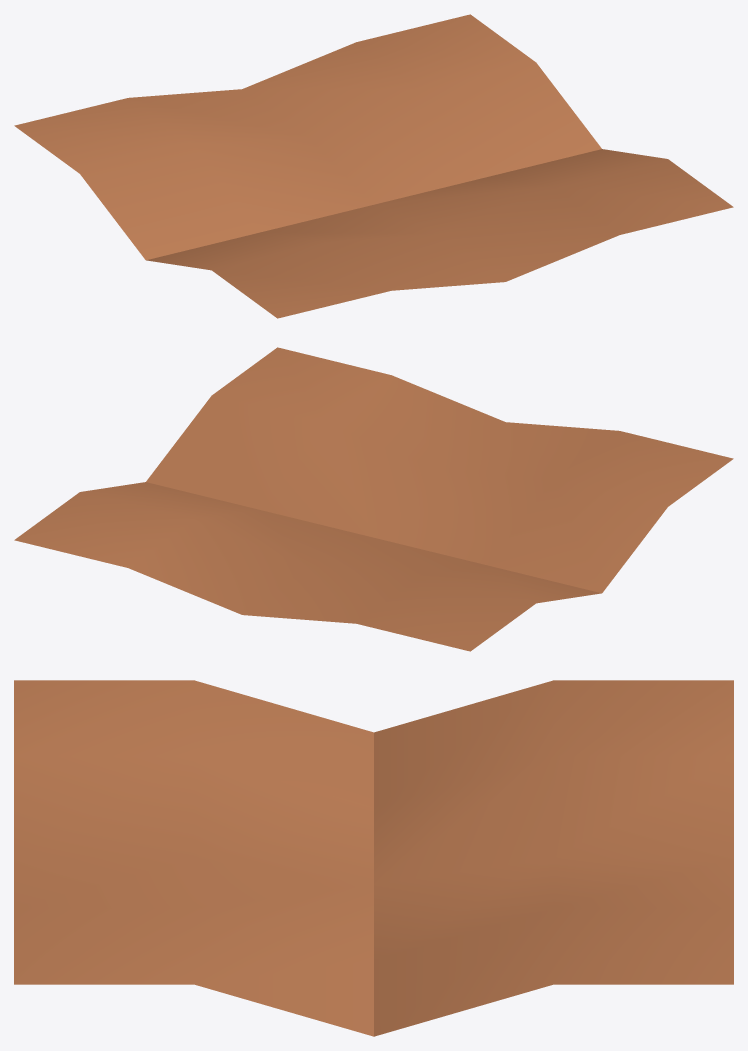
Rendered from groundTileRough.glb.
3 renders of one model, top to bottom at view 1: azimuth 30°, elevation 25°; view 2: azimuth 150°, elevation 25°; view 3: azimuth 270°, elevation 25°, orthographic. The views are drawn at different scales.
Parts seen in each view (by area): view 1: groundTileRough; view 2: groundTileRough; view 3: groundTileRough.
Part boxes in pixels (x1,y1,x2,y2): groundTileRough: [14, 14, 733, 318]; groundTileRough: [14, 347, 733, 651]; groundTileRough: [14, 680, 733, 1036].
Bounding box in the file's own units: 10 × 0.8 × 10.
